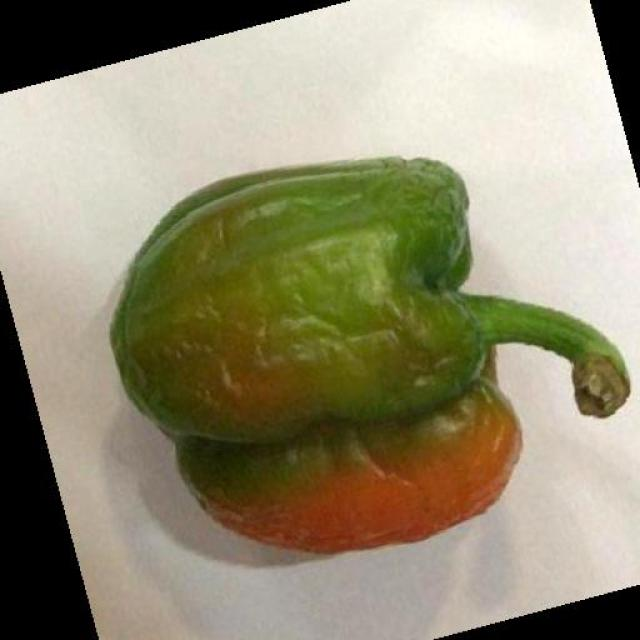Stale_Capsicum: (154, 123, 569, 527)
